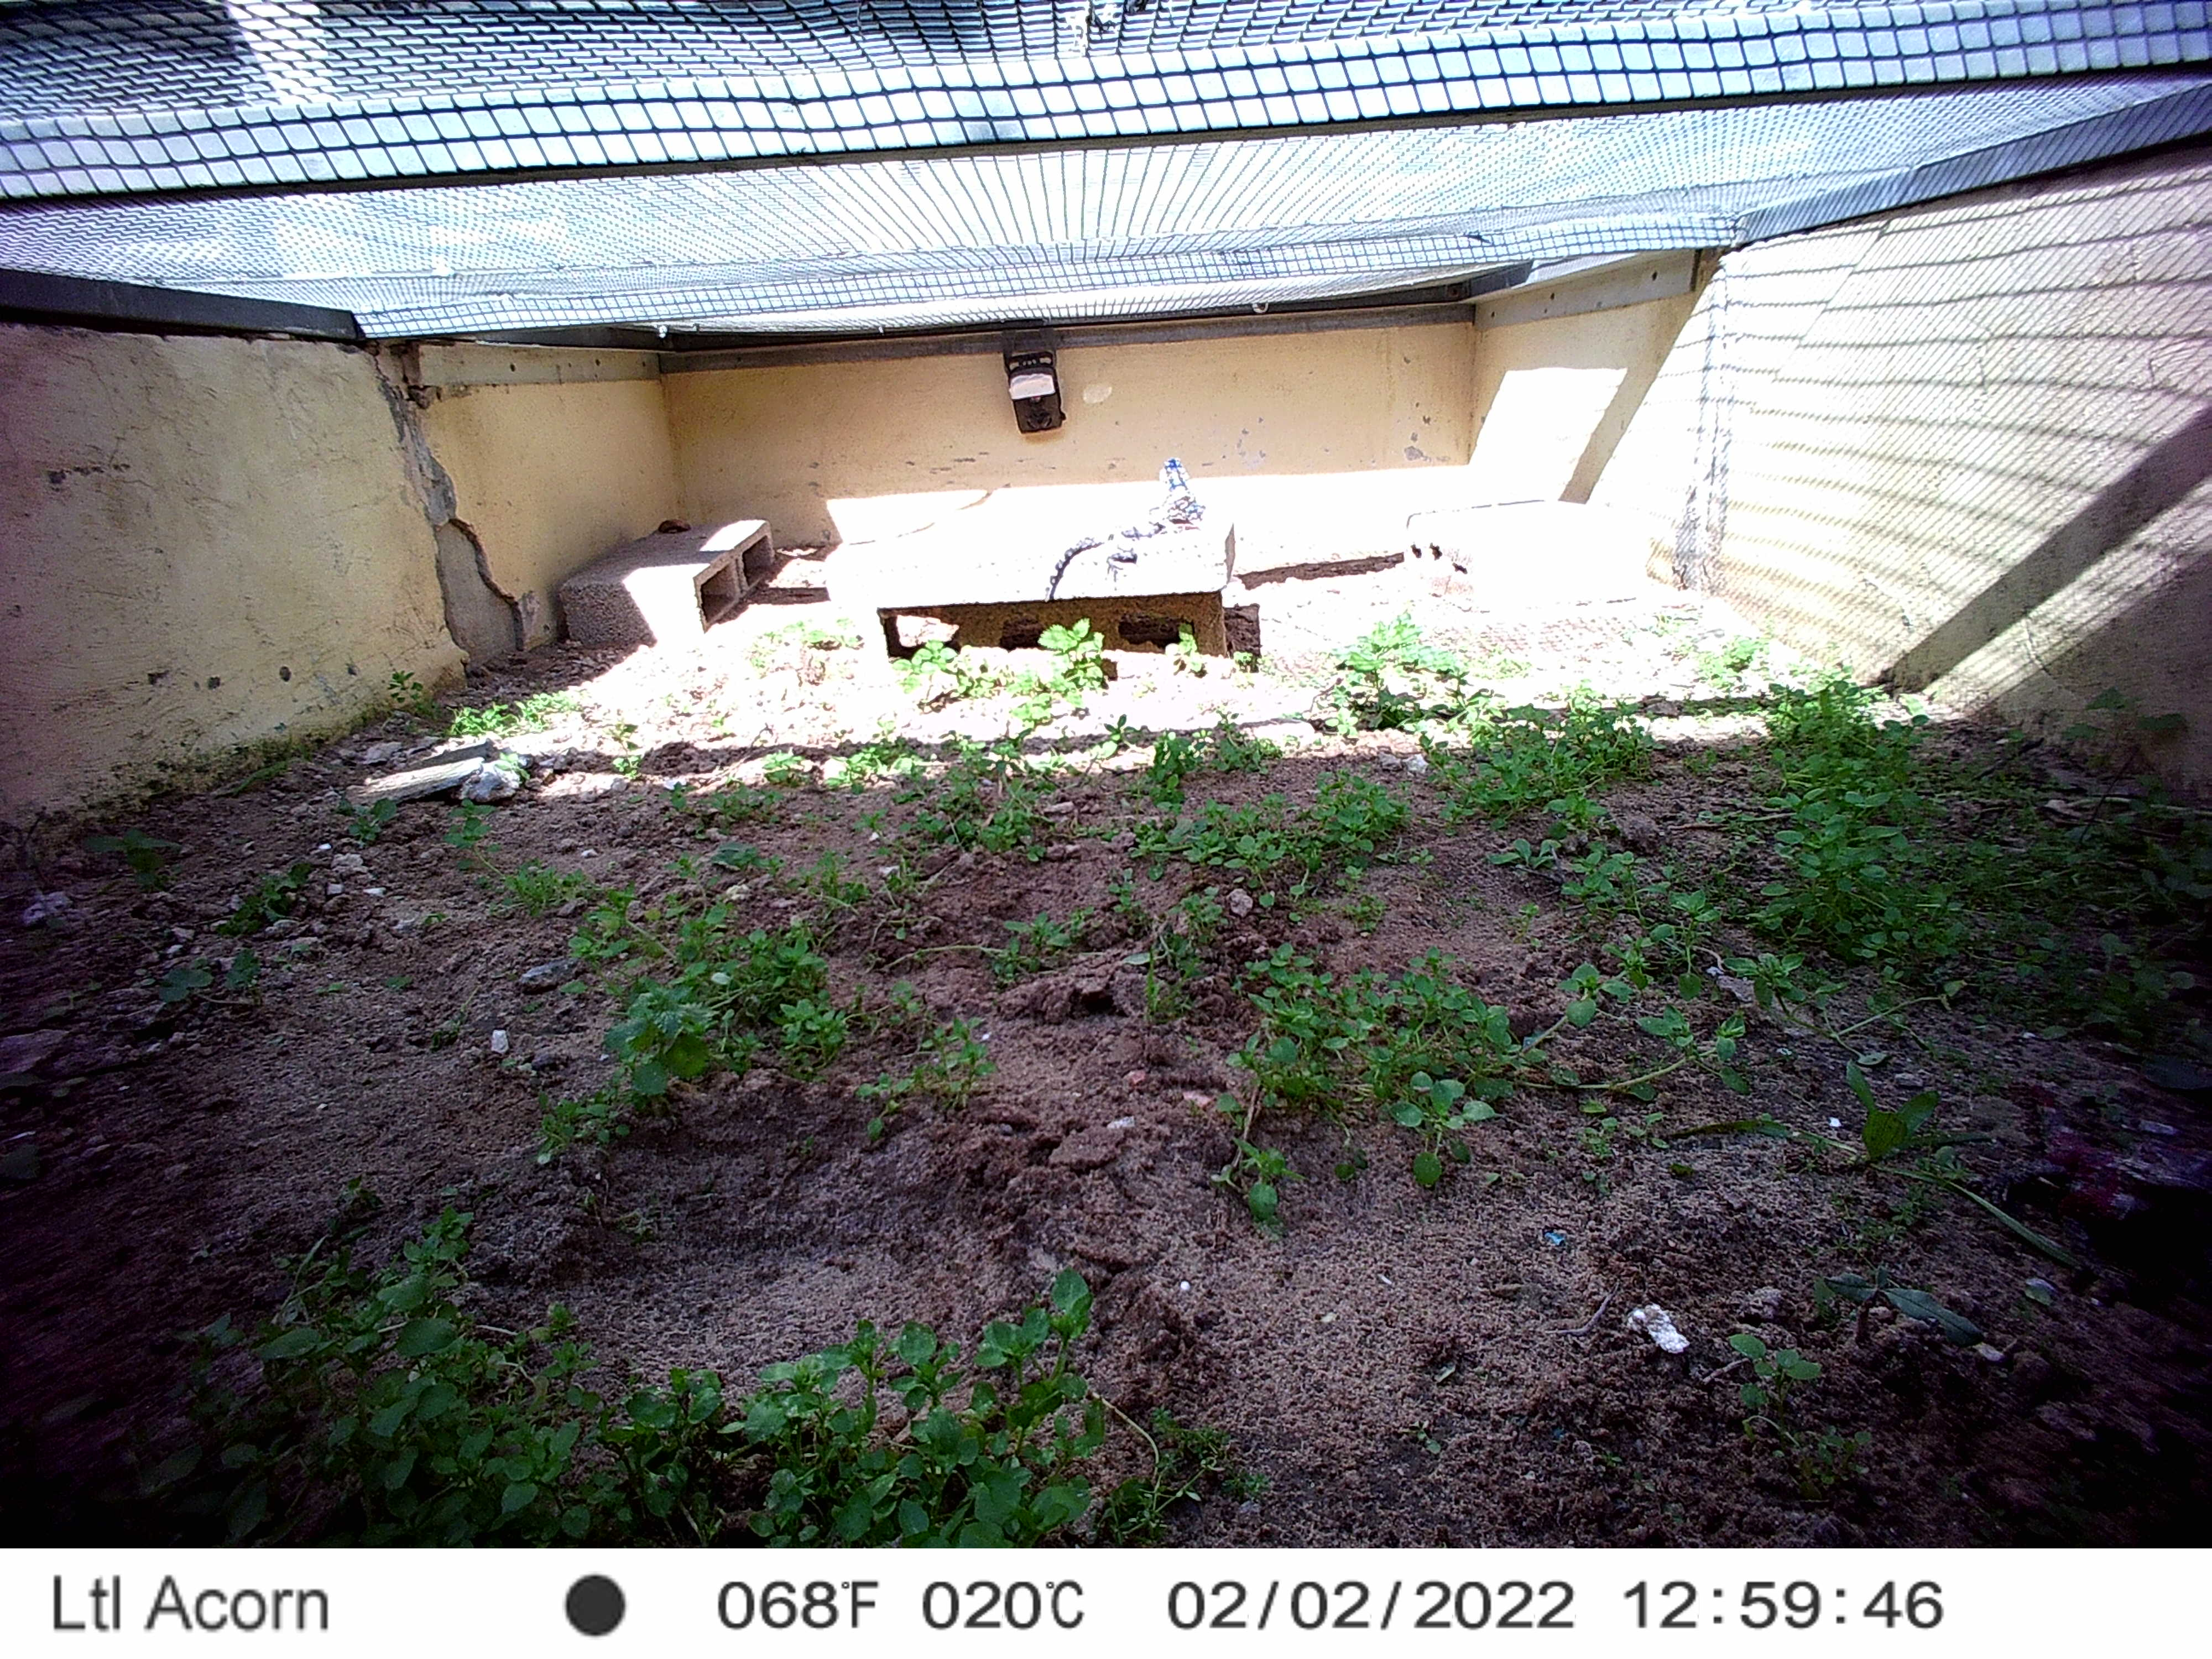lizard: (1987, 1061, 2209, 1270), (1047, 500, 1188, 592), (1158, 457, 1209, 495)
